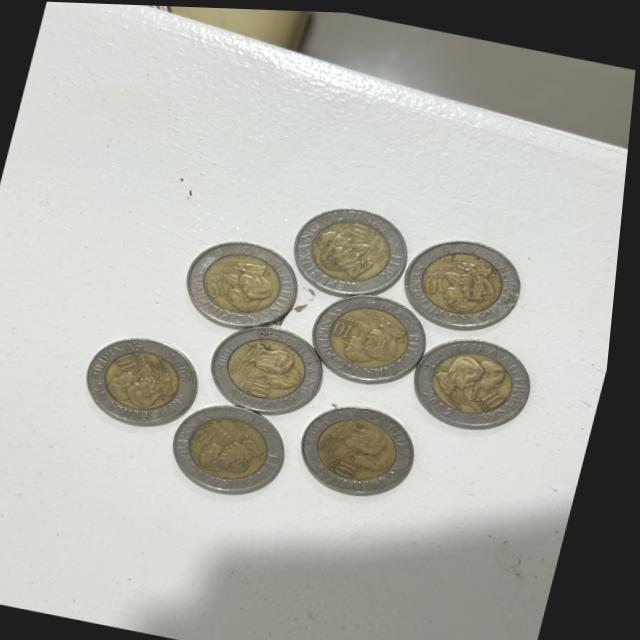10_Old_Front: (194, 420, 274, 476), (329, 303, 367, 344), (245, 366, 287, 402), (477, 382, 519, 411), (331, 454, 370, 483), (426, 265, 460, 297), (117, 351, 156, 377), (205, 273, 239, 302), (347, 217, 378, 240)
